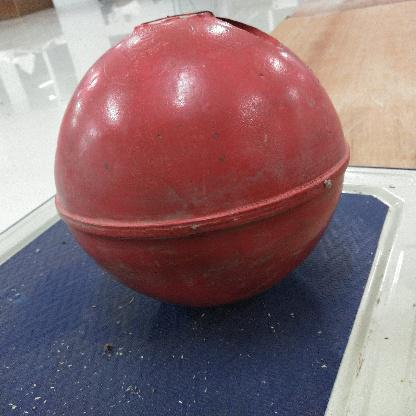red_buoy: (55, 11, 349, 311)
